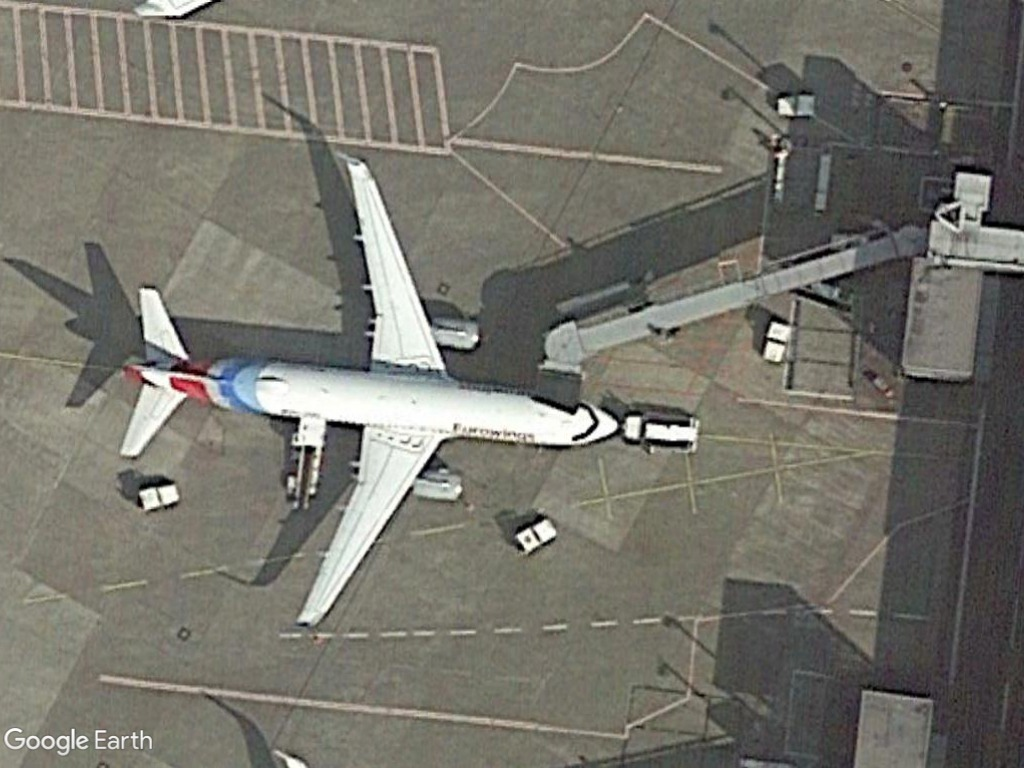airliner: (112, 148, 625, 653)
pushbacktruck: (614, 405, 703, 457)
